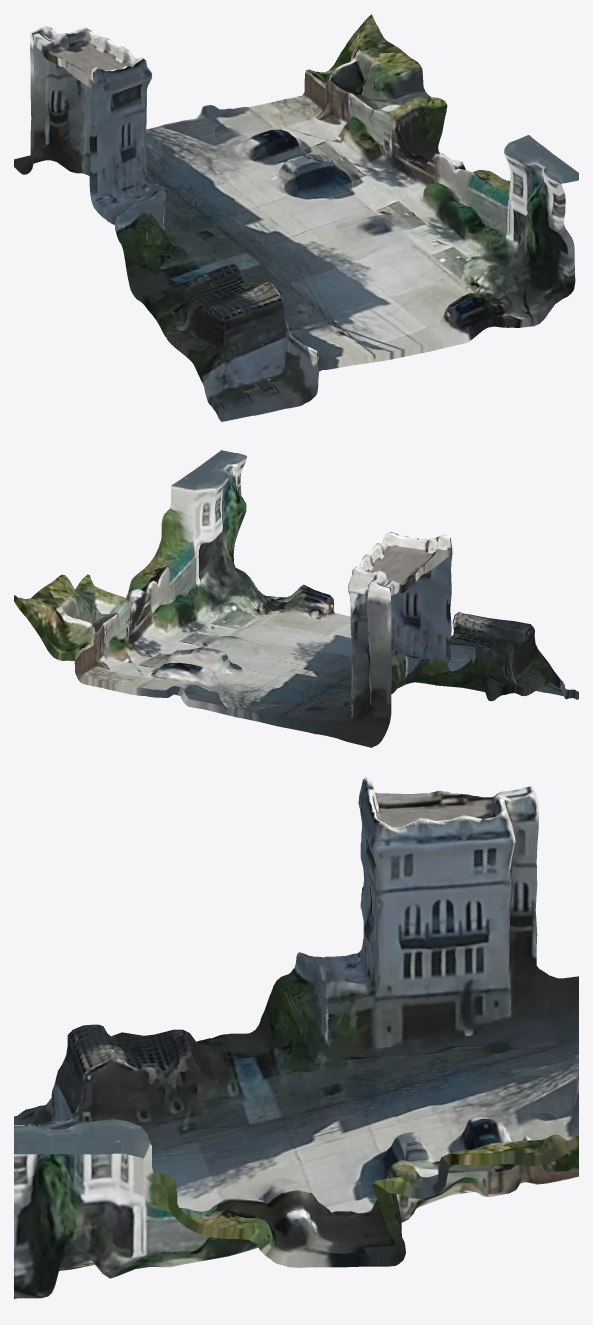
The model's file is z20-167722-405195-h0-yup-uvflip-v3-world.glb.
The picture shows the model from 3 angles, top to bottom: view 1: azimuth 30°, elevation 25°; view 2: azimuth 150°, elevation 25°; view 3: azimuth 270°, elevation 25°; orthographic projection. The views are drawn at different scales.
Size of the model in its own units: 30.16 by 21.08 by 30.32.
1 material, 1 textured.
